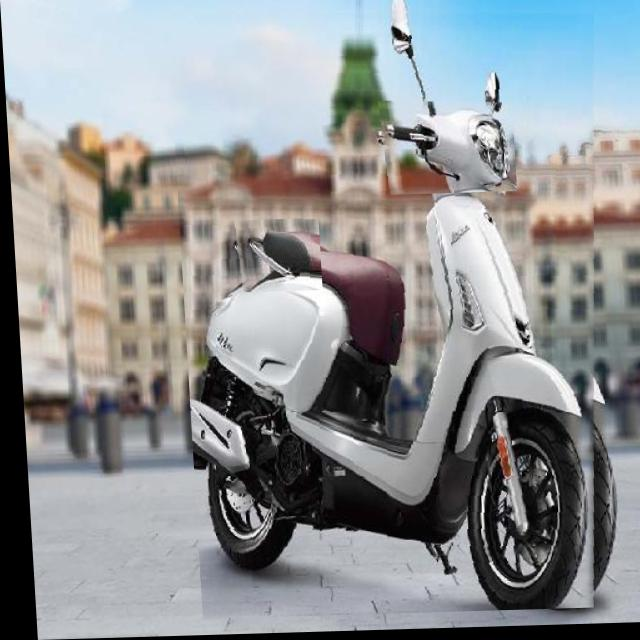All: (167, 5, 621, 621)
Head: (376, 100, 515, 197)
Tail: (232, 220, 319, 294)
